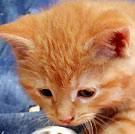cat: (0, 4, 135, 134)
